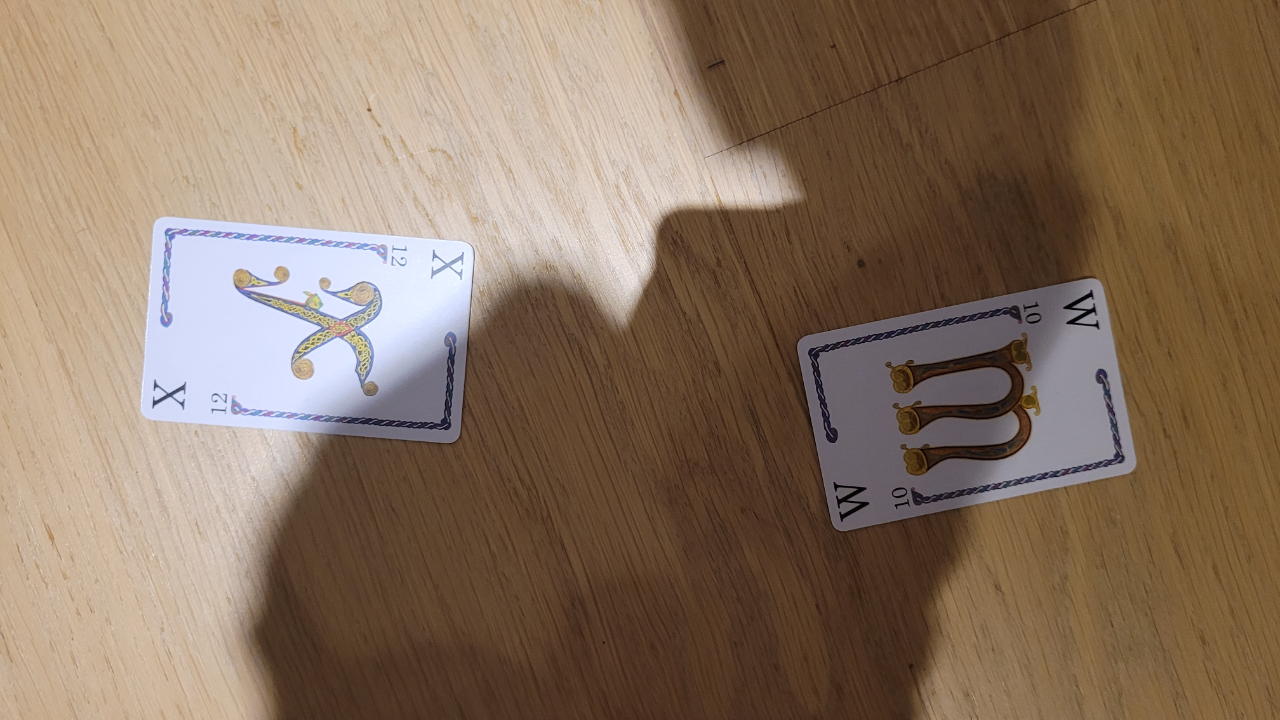quiddler_card: (778, 266, 1177, 542), (131, 202, 488, 455)
